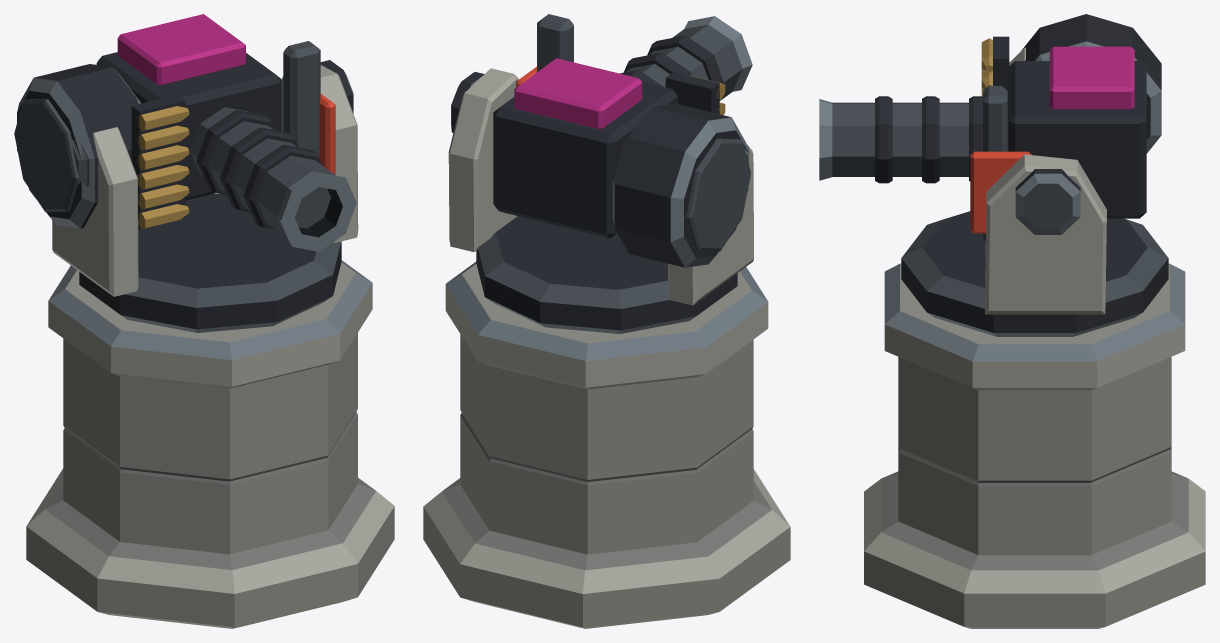
File: lv2_cadence.glb
The picture shows the model from 3 angles, left to right: view 1: azimuth 30°, elevation 25°; view 2: azimuth 150°, elevation 25°; view 3: azimuth 270°, elevation 25°; orthographic projection.
Parts seen in each view (by area): view 1: Base, Barrel_Recoil, Turret_Yaw, Team_Panels; view 2: Base, Barrel_Recoil, Turret_Yaw; view 3: Base, Barrel_Recoil, Turret_Yaw, Team_Panels.
Part boxes in pixels (<box>): Base: <box>26,260,394,628</box>; Barrel_Recoil: <box>14,14,356,251</box>; Turret_Yaw: <box>52,60,358,332</box>; Team_Panels: <box>319,94,335,174</box>; Base: <box>423,261,790,628</box>; Barrel_Recoil: <box>493,14,752,267</box>; Turret_Yaw: <box>448,68,753,333</box>; Base: <box>864,263,1205,628</box>; Barrel_Recoil: <box>819,14,1161,241</box>; Turret_Yaw: <box>901,47,1168,336</box>; Team_Panels: <box>970,151,1031,233</box>.
Bounding box in the file's own units: 1.59 × 2.6 × 1.79.
